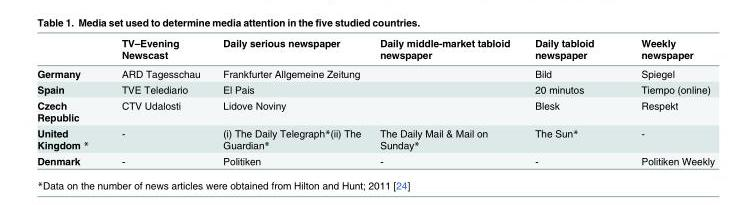table: (36, 36, 713, 166)
table column: (210, 36, 369, 166), (369, 36, 521, 166), (104, 36, 210, 166), (616, 36, 713, 166), (521, 36, 616, 166), (36, 36, 104, 166)
table column header: (36, 36, 713, 63)
table row: (36, 96, 713, 124), (36, 124, 713, 152), (36, 36, 713, 63), (36, 63, 713, 81), (36, 81, 713, 96), (36, 152, 713, 166)
